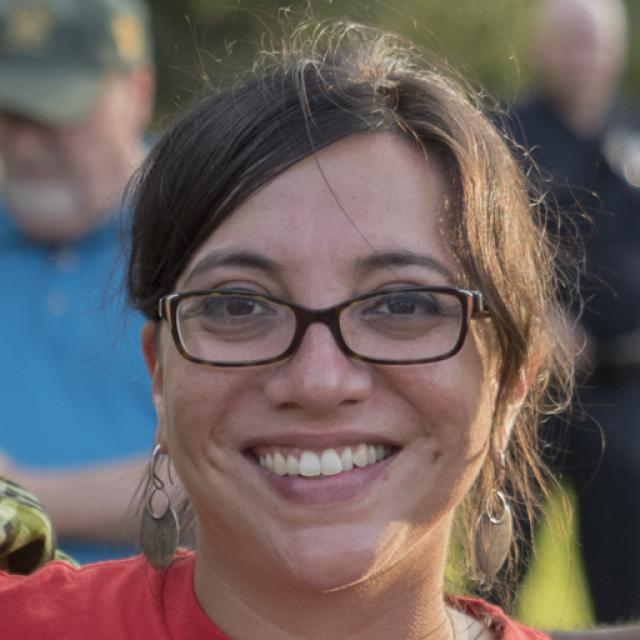happy: (164, 135, 498, 590)
